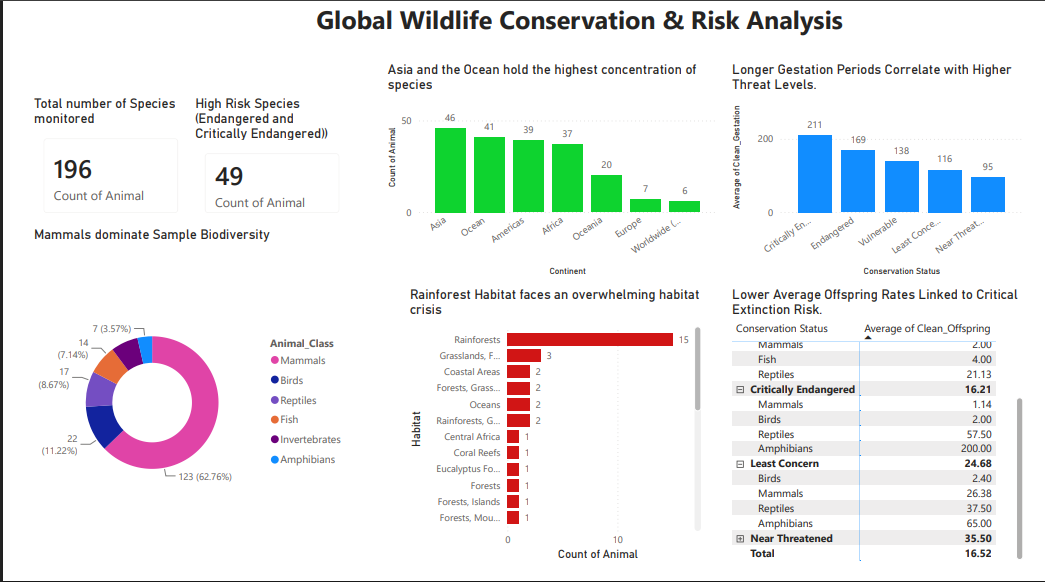

The page's visual inventory and layout, read from the dashboard file:
{"tool":"powerbi","page":{"name":"Page 1","canvas":[1280,720],"ordinal":0},"visuals":[{"type":"cardVisual","title":"Total number of Species monitored ","fields":{"Data":["Count(animal_dataset_conservation animal_clean_records.Animal)"]},"box":[11.8,124.3,204.9,166.3],"z":0},{"type":"cardVisual","title":"High Risk Species (Endangered and Critically Endangered))","fields":{"Data":["Count(animal_dataset_conservation animal_clean_records.Animal)"]},"box":[216.7,124.3,204.9,166.3],"z":1000},{"type":"donutChart","title":"Mammals dominate Sample Biodiversity ","fields":{"Category":["animal_dataset_conservation animal_clean_records.Animal_Class"],"Y":["CountNonNull(animal_dataset_conservation animal_clean_records.Animal)"]},"box":[11.8,290.6,409.9,430],"z":2000},{"type":"clusteredColumnChart","title":"Asia and the Ocean hold the highest concentration of species","fields":{"Category":["animal_dataset_conservation animal_clean_records.Continent"],"Y":["CountNonNull(animal_dataset_conservation animal_clean_records.Animal)"]},"box":[461.9,80.6,428.3,278.8],"z":3000},{"type":"clusteredBarChart","title":"Rainforest Habitat faces an overwhelming habitat crisis","fields":{"Category":["animal_dataset_conservation animal_clean_records.Habitat"],"Y":["CountNonNull(animal_dataset_conservation animal_clean_records.Animal)"]},"box":[490.5,367.9,379.6,352.8],"z":4000},{"type":"clusteredColumnChart","title":"Longer Gestation Periods Correlate with Higher Threat Levels.","fields":{"Category":["animal_dataset_conservation animal_clean_records.Conservation Status"],"Y":["Avg(animal_dataset_conservation animal_clean_records.Clean_Gestation)"]},"box":[900.4,80.6,379.6,278.8],"z":5000},{"type":"pivotTable","title":"Lower Average Offspring Rates Linked to Critical Extinction Risk.","fields":{"Rows":["animal_dataset_conservation animal_clean_records.Conservation Status","animal_dataset_conservation animal_clean_records.Animal_Class"],"Values":["Avg(animal_dataset_conservation animal_clean_records.Clean_Offspring)"]},"box":[900.4,367.9,379.6,352.8],"z":5001},{"type":"textbox","box":[371.2,0,791.2,57.1],"z":5002}]}

Visuals, with their boxes in screenshot pixels (x1, y1, x2, y2), scaled from the page's 1280x720 canvas onto the 1045x582 screenshot:
"Total number of Species monitored " cardVisual: region(10, 100, 177, 235)
"High Risk Species (Endangered and Critically Endangered))" cardVisual: region(177, 100, 344, 235)
"Mammals dominate Sample Biodiversity " donutChart: region(10, 235, 344, 581)
"Asia and the Ocean hold the highest concentration of species" clusteredColumnChart: region(377, 65, 727, 291)
"Rainforest Habitat faces an overwhelming habitat crisis" clusteredBarChart: region(400, 297, 710, 581)
"Longer Gestation Periods Correlate with Higher Threat Levels." clusteredColumnChart: region(735, 65, 1044, 291)
"Lower Average Offspring Rates Linked to Critical Extinction Risk." pivotTable: region(735, 297, 1044, 581)
textbox: region(303, 0, 949, 46)
